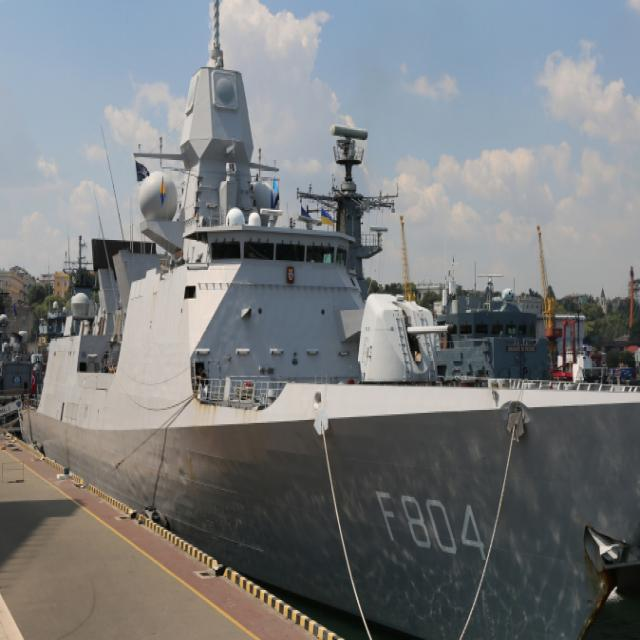Fragata: (19, 1, 640, 640)
